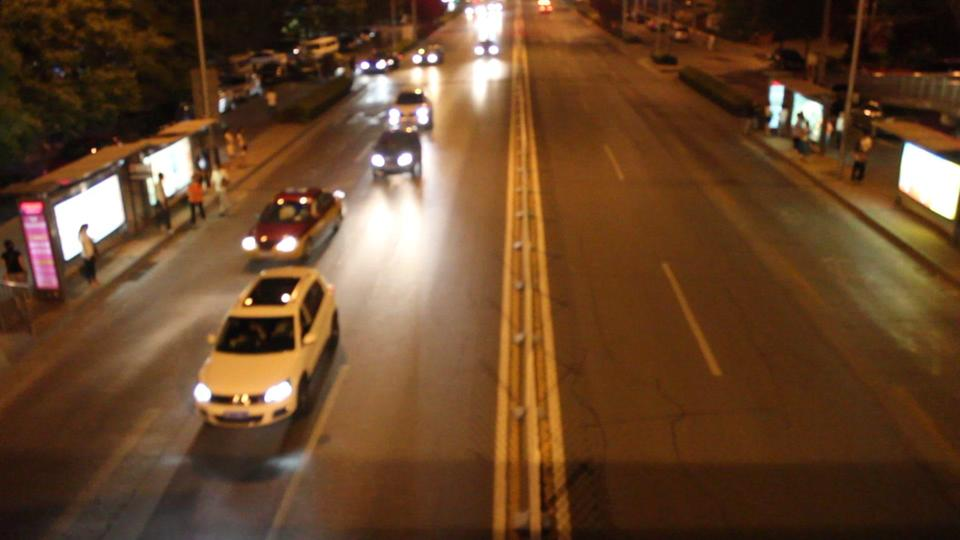car: (240, 184, 346, 266), (388, 91, 433, 137), (412, 44, 445, 65)
microbus: (296, 34, 338, 64)
suv: (191, 268, 337, 430), (369, 130, 421, 185)
